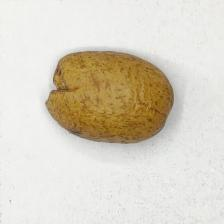NG: (45, 58, 81, 113)
